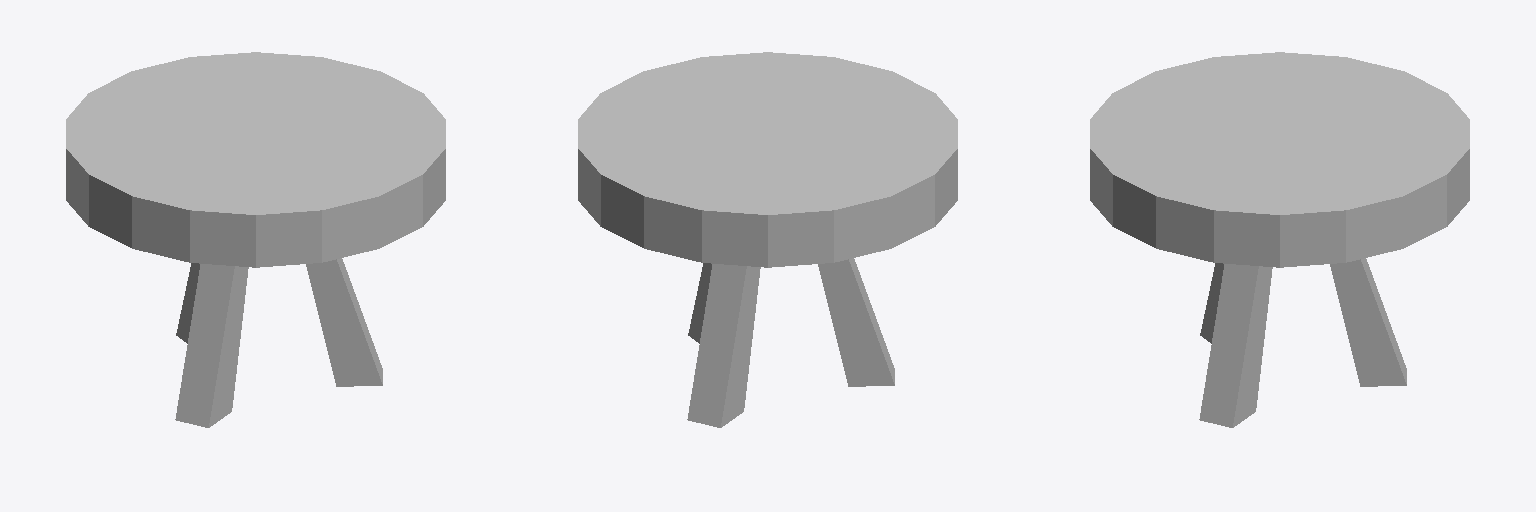
The model's file is desktop_mac_fix.obj.
The picture shows the model from 3 angles: view 1: azimuth 30°, elevation 25°; view 2: azimuth 150°, elevation 25°; view 3: azimuth 270°, elevation 25°; orthographic projection.
Parts seen in each view (by area): view 1: Cylinder002; view 2: Cylinder002; view 3: Cylinder002.
Part boxes in pixels (x1,y1,x2,y2): Cylinder002: (66,52,445,427); Cylinder002: (578,52,957,427); Cylinder002: (1090,52,1469,427).
Size of the model in its own units: 1 by 0.6991 by 0.9848.